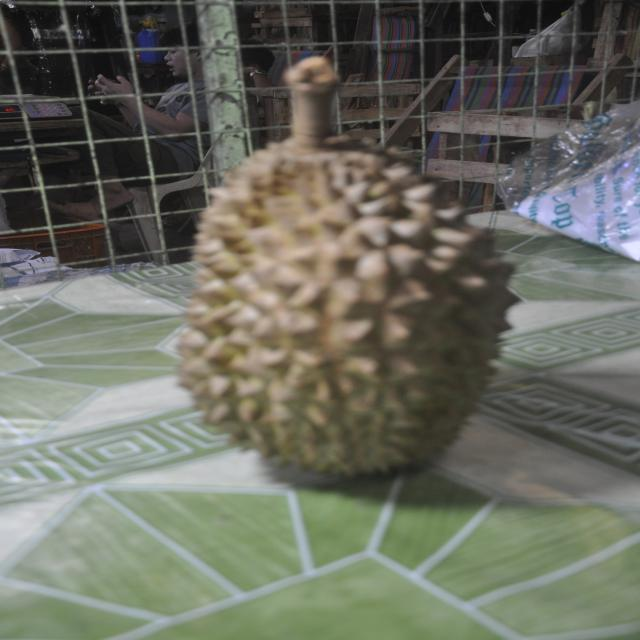mature: (181, 60, 515, 474)
